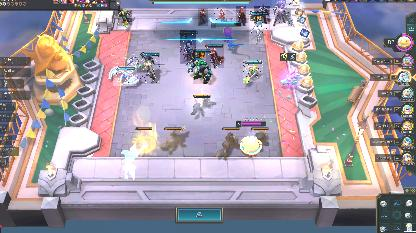1_jax: (243, 60, 263, 82), (118, 10, 132, 26)
1_malphite: (193, 50, 211, 84)
1_pantheon: (272, 0, 294, 26)
1_rakan: (206, 44, 224, 68), (236, 6, 246, 26)
1_sylas: (254, 6, 270, 24)
1_xayah: (214, 7, 226, 23), (198, 8, 208, 26)
2_nasus: (140, 52, 160, 84)
2_nidalee: (249, 10, 267, 44)
2_skarner: (113, 66, 137, 86)
2_vladimir: (180, 30, 196, 64)
